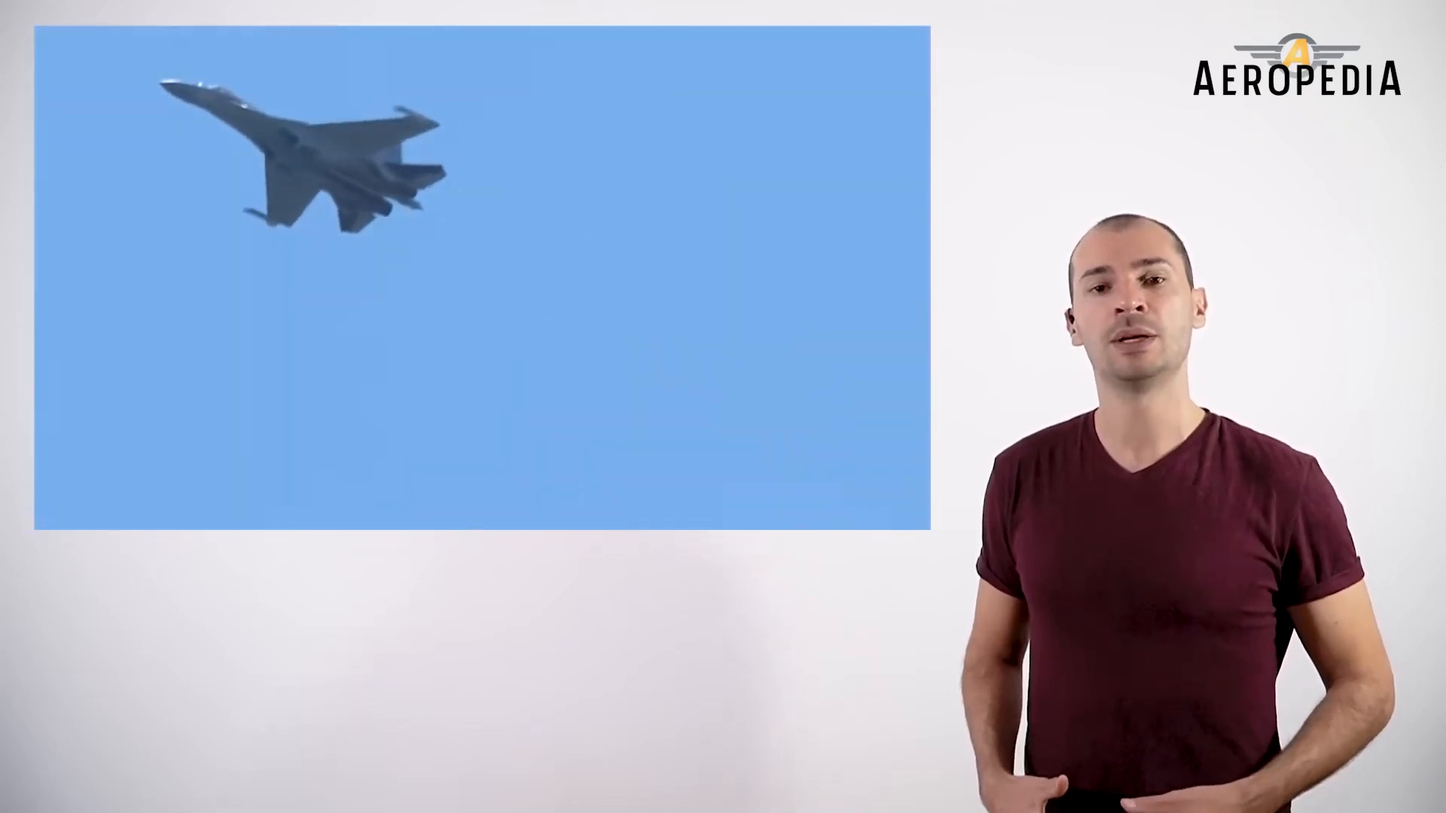Su35: (153, 79, 453, 236)
